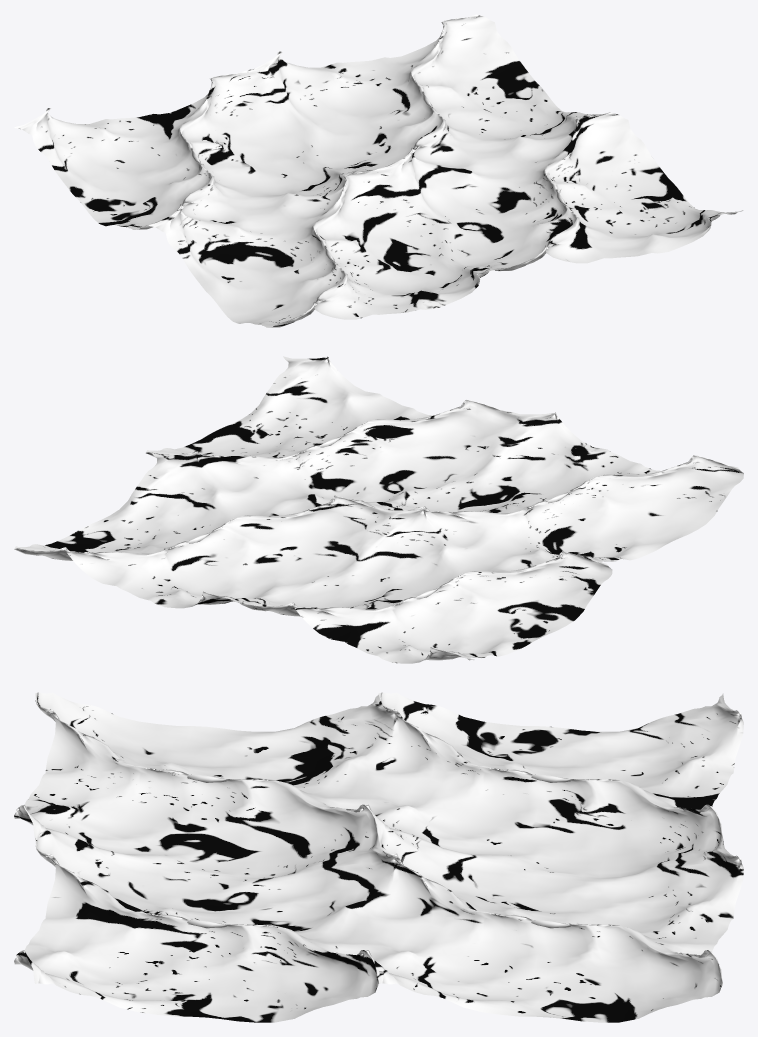
Rendered from Ocean4.glb.
3 renders of one model, top to bottom at view 1: azimuth 30°, elevation 25°; view 2: azimuth 150°, elevation 25°; view 3: azimuth 270°, elevation 25°, orthographic. The views are drawn at different scales.
Visible parts, largest first — view 1: Plane.001; view 2: Plane.001; view 3: Plane.001.
Part boxes in pixels (x1,y1,x2,y2): Plane.001: [14, 14, 743, 327]; Plane.001: [14, 356, 743, 663]; Plane.001: [14, 692, 743, 1022].
Size of the model in its own units: 247 by 17.81 by 250.
1 material, 1 textured.
